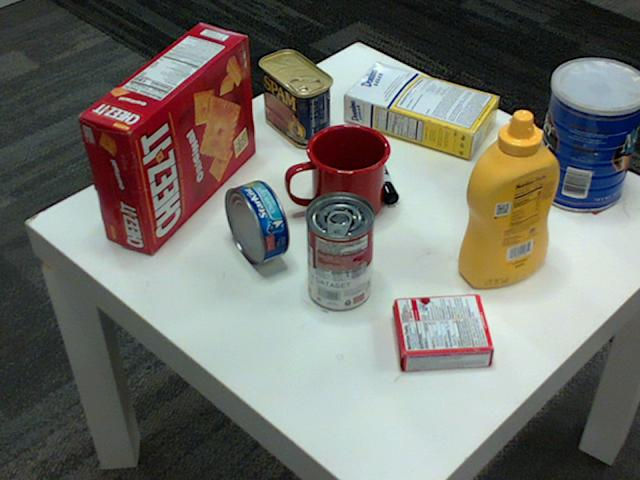cracker_box: (78, 20, 255, 251)
gelatin_box: (390, 295, 493, 372)
large_marker: (360, 137, 397, 203)
master_chef_can: (533, 58, 639, 211)
mug: (287, 121, 391, 224)
mustard_bottle: (457, 110, 560, 287)
potted_meat_can: (256, 51, 331, 148)
sugar_box: (344, 62, 501, 158)
tomato_soup_can: (305, 192, 375, 310)
tuna_fish_can: (225, 180, 289, 265)
